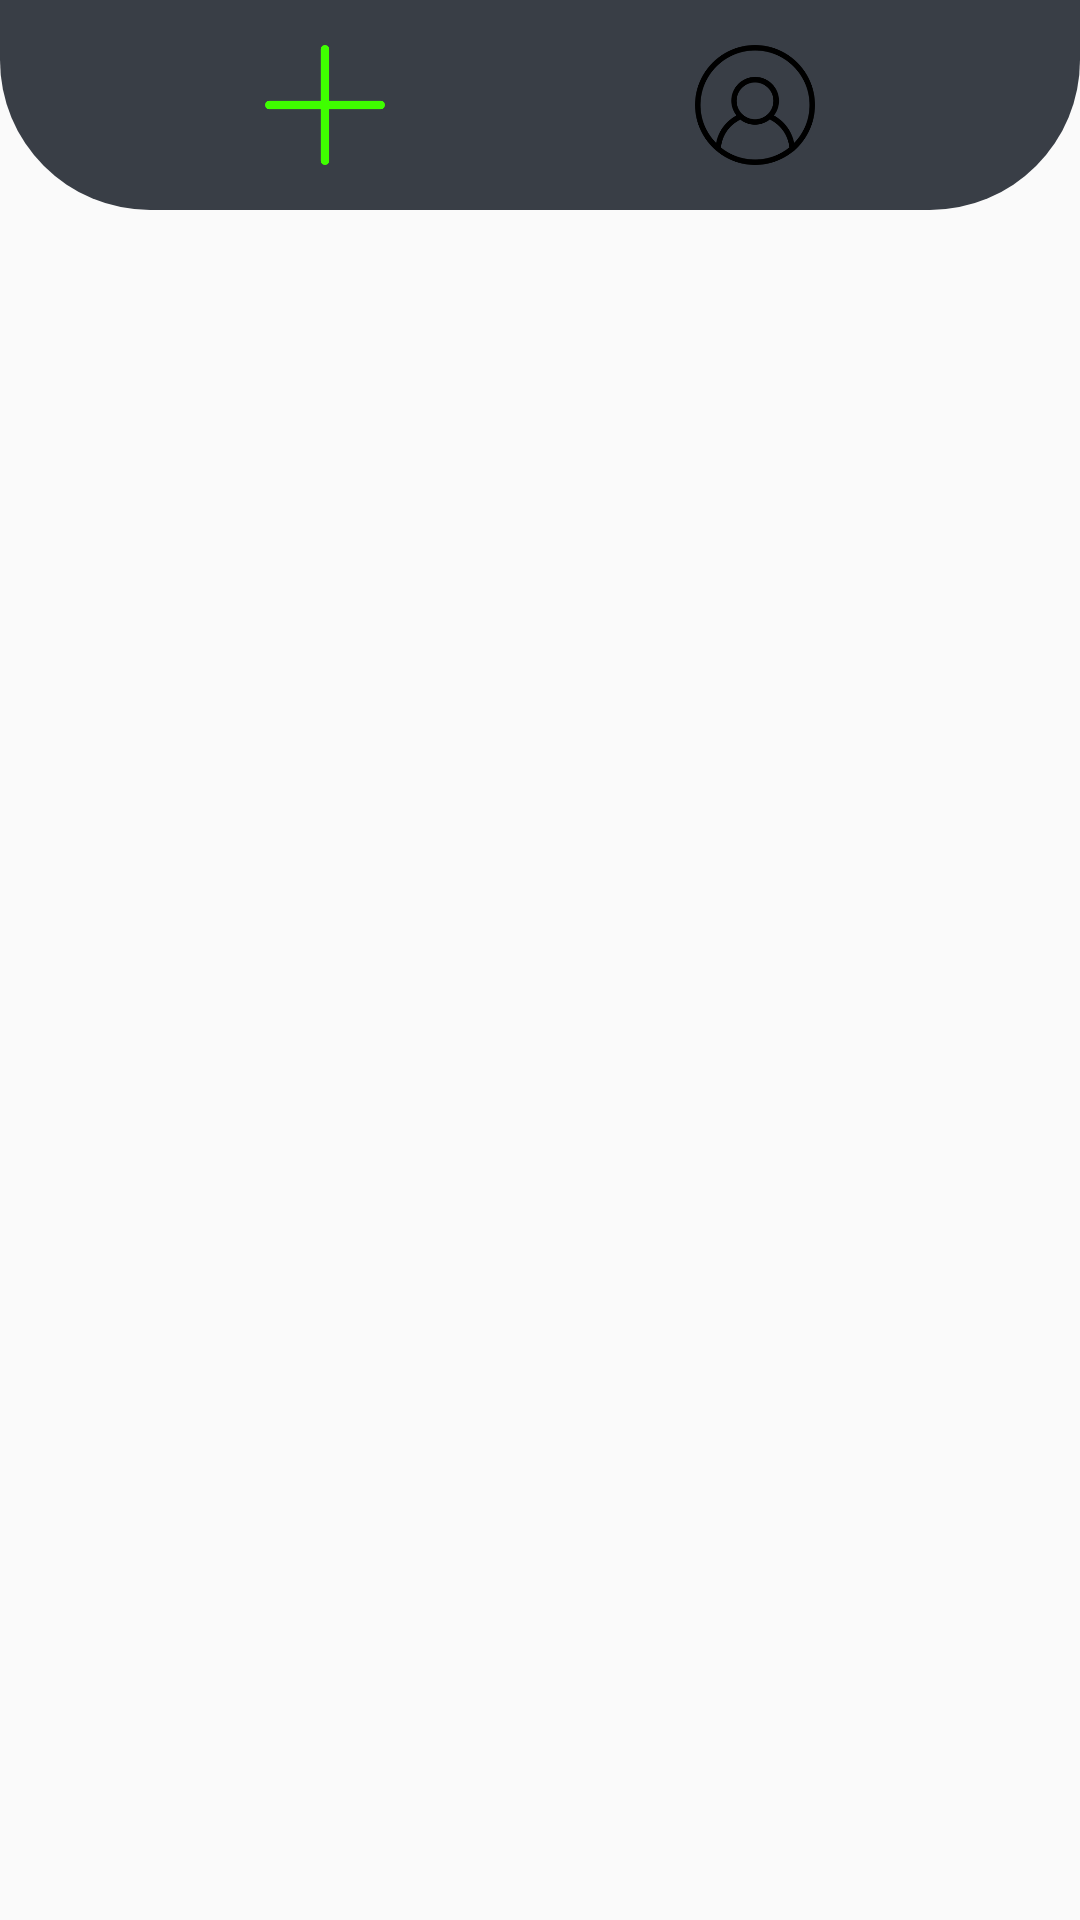

Icons on this 1080 × 1920 Android screen, each with its box as (x1,y1,x2,y2):
add task: (265,45,385,165)
mine: (695,45,815,165)
